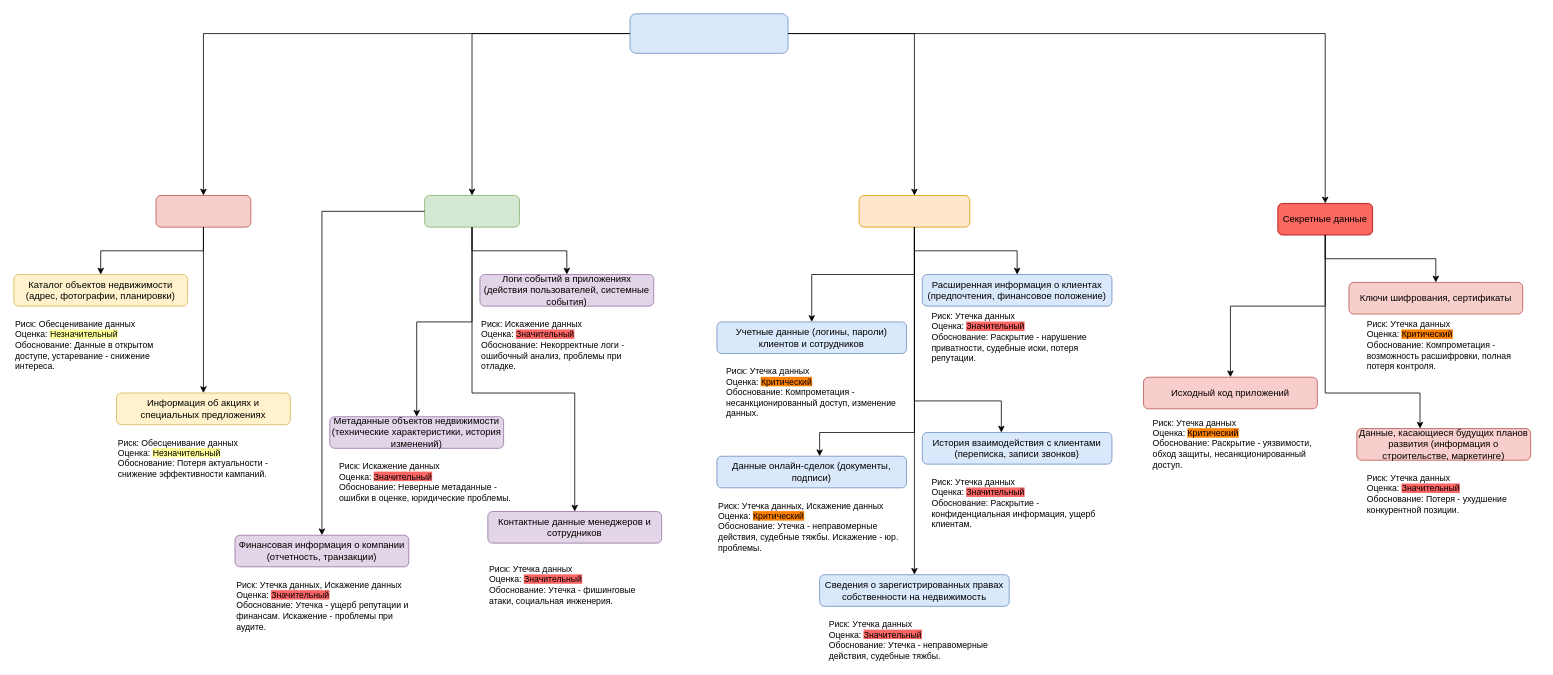
The diagram is 1553 pixels wide and 675 high, and some of its shapes have lost their labels. The box of each missing label's shape, as (x1, y1, x2, y2) in pixels:
Безопасность данных PropDevelopment: (629, 13, 788, 53)
Внутренние данные: (424, 195, 519, 227)
Конфиденциальные данные: (858, 195, 970, 227)
Публичные данные: (155, 195, 251, 227)
